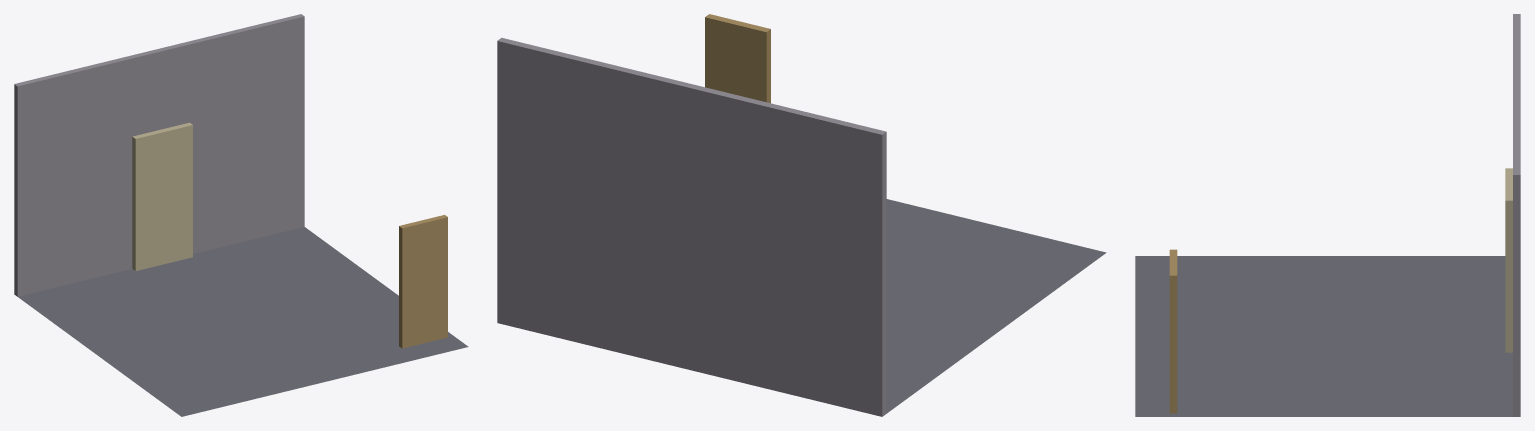
Rendered from cellar.glb.
3 renders of one model, left to right at view 1: azimuth 30°, elevation 25°; view 2: azimuth 150°, elevation 25°; view 3: azimuth 270°, elevation 25°, orthographic. The views are drawn at different scales.
Visible parts, largest first — view 1: CellarWall, CellarFloor, ExitDoor, DoorToHallway; view 2: CellarWall, CellarFloor, DoorToHallway; view 3: CellarFloor, CellarWall, DoorToHallway, ExitDoor.
Part boxes in pixels (x1,y1,x2,y2): CellarWall: (14,14,304,296); CellarFloor: (18,227,468,416); ExitDoor: (132,122,192,270); DoorToHallway: (399,215,447,348); CellarWall: (497,37,886,416); CellarFloor: (886,199,1106,413); DoorToHallway: (705,14,770,103); CellarFloor: (1135,256,1512,416); CellarWall: (1513,14,1520,416); DoorToHallway: (1169,249,1177,413); ExitDoor: (1505,168,1512,352).
Size of the model in its own units: 5 by 3.5 by 5.05.
